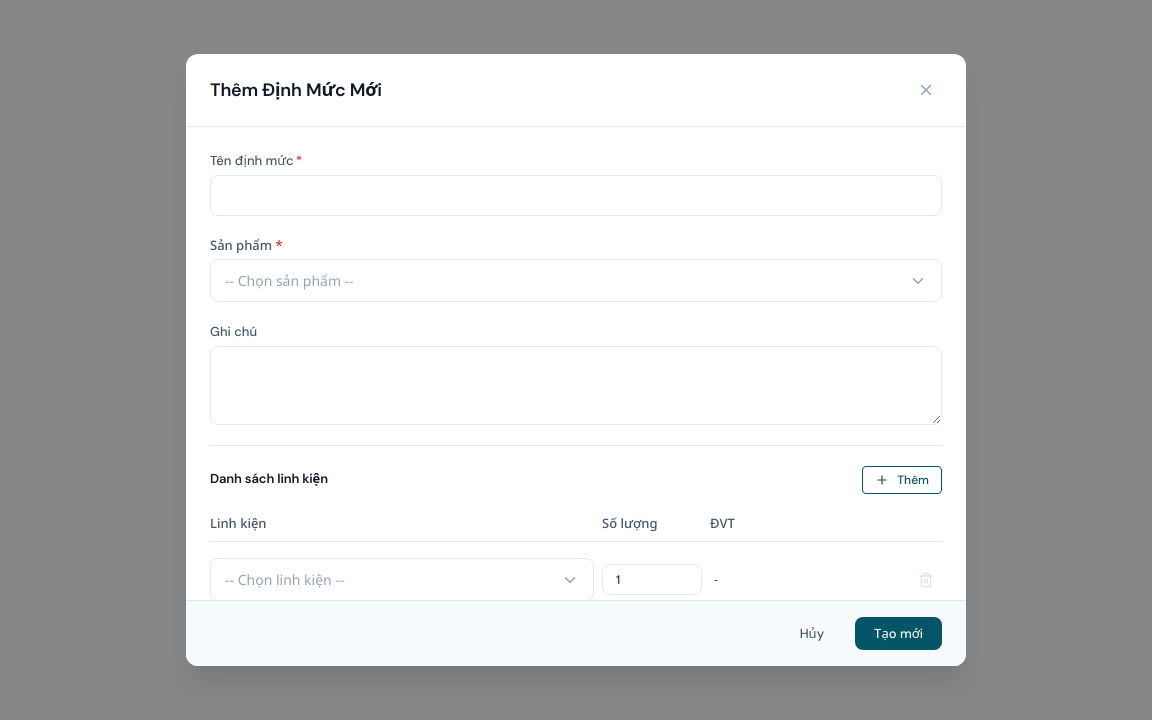
BomFormModal › handles API error when product already has BOM
// Open product dropdown
Click the dropdown labelled "-- Chọn sản phẩm --" at (576, 280), box 210,259 -> 942,302
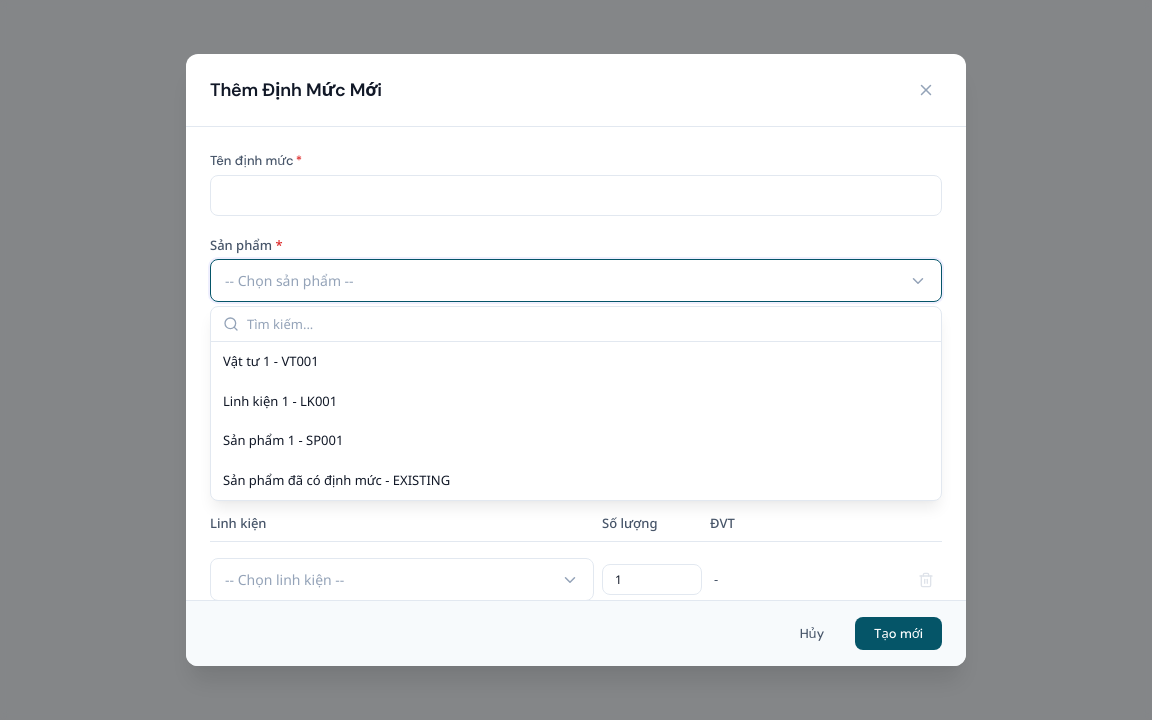
Click the option "Sản phẩm đã có định mức - EXISTING" at (337, 480), box 223,470 -> 450,488
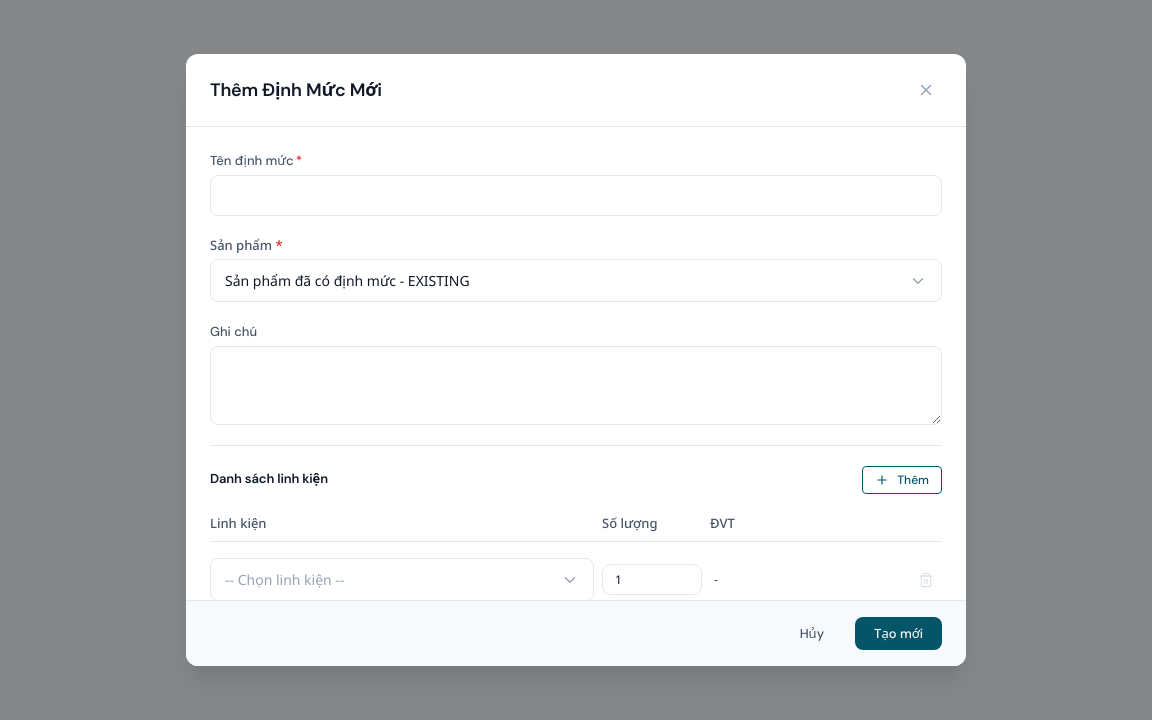
Type "Existing BOM Name" into the field labelled "Tên định mức*" at (576, 195), box 210,174 -> 942,216
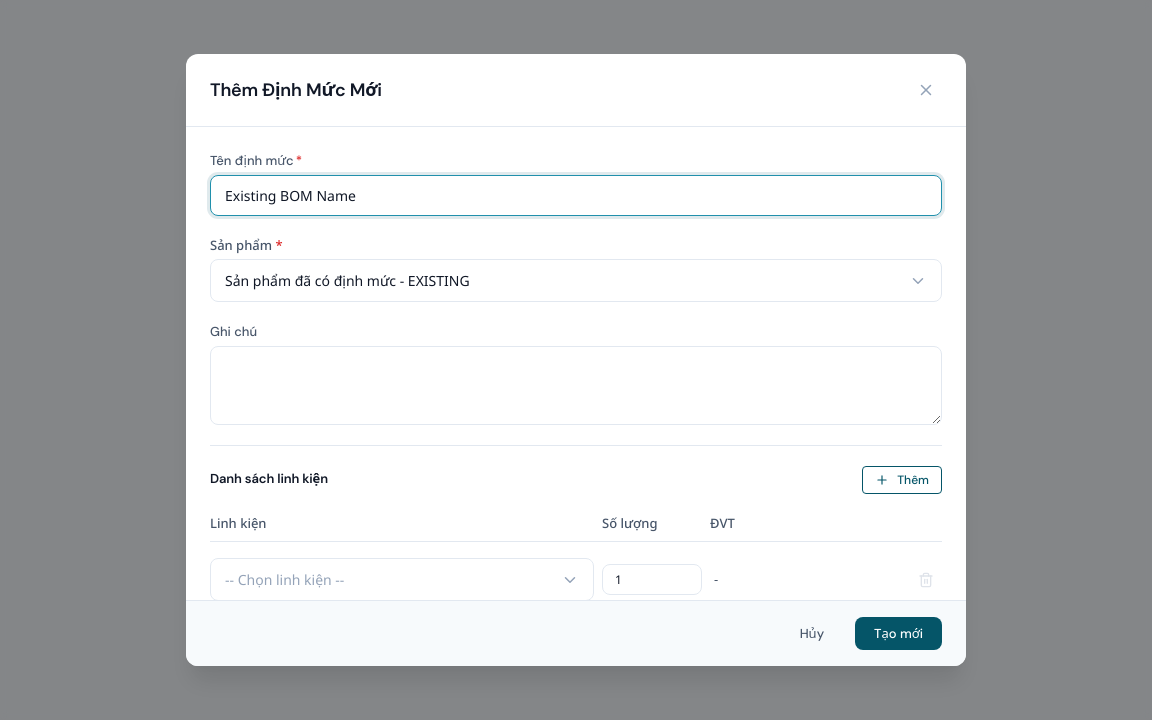
// Open items dropdown
Click the dropdown named "Mã linh kiện" at (402, 580), box 210,558 -> 594,601
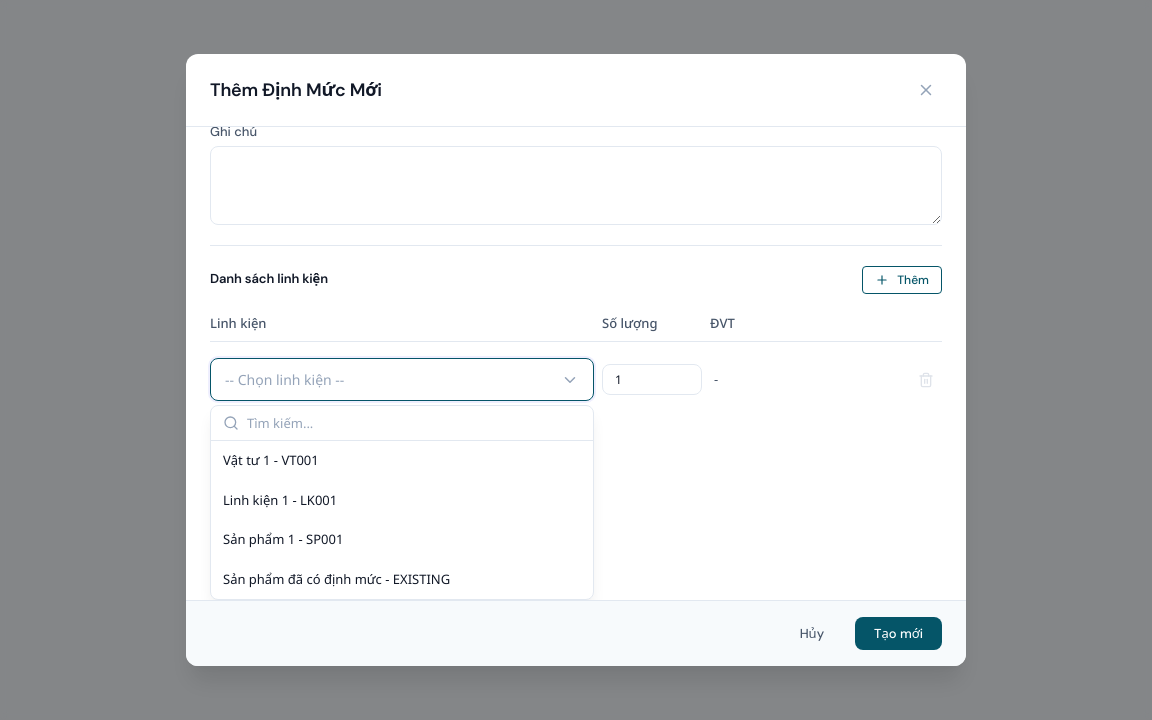
Click the option "Linh kiện 1 - LK001" at (280, 500), box 223,490 -> 337,508
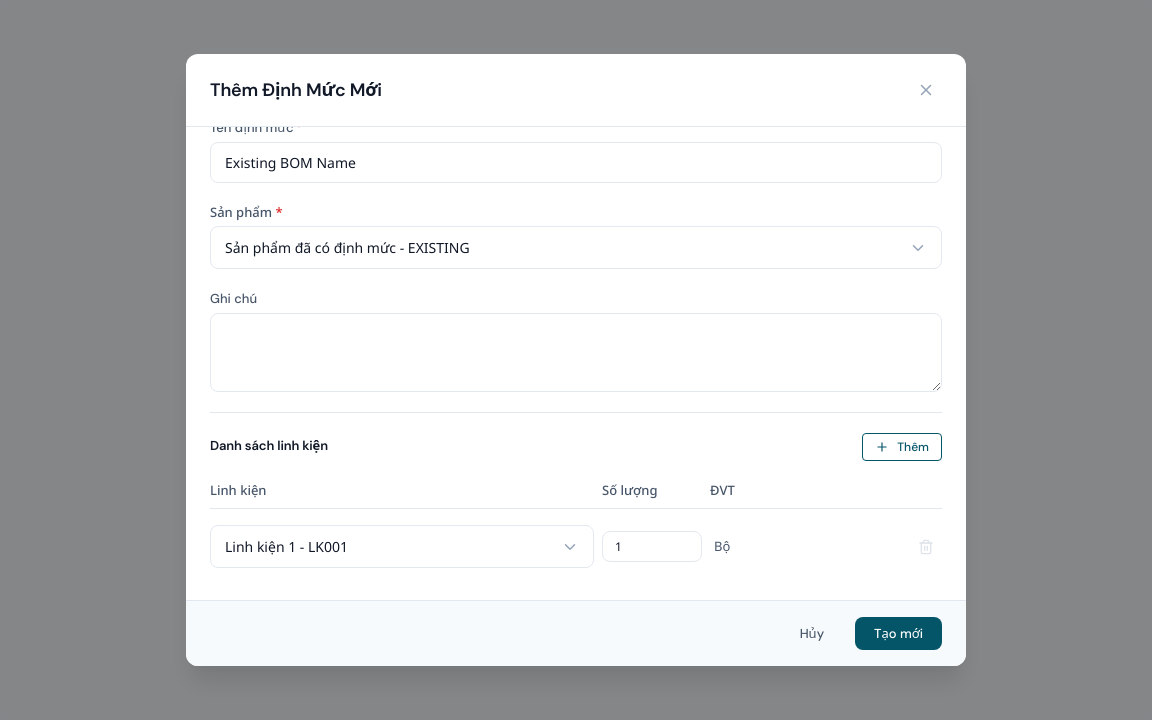
Click the button "Tạo mới" at (899, 634), box 855,617 -> 942,650
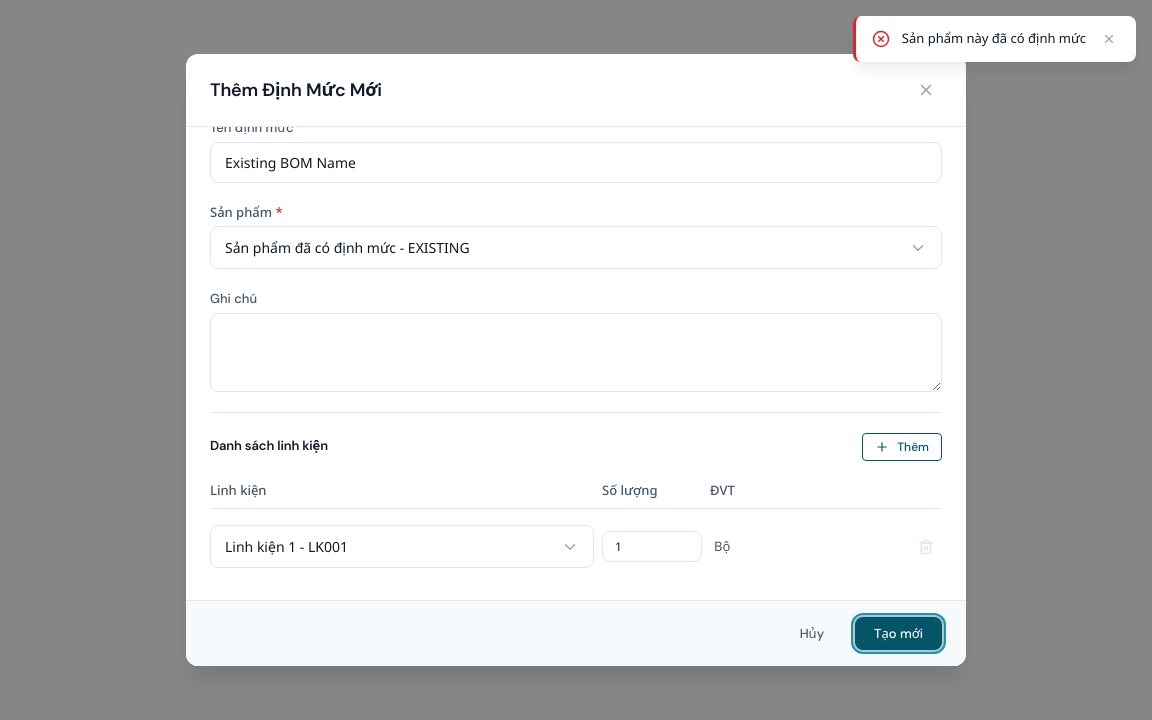
Now the text "Sản phẩm này đã có định mức" is shown, box 902,29 -> 1086,49
